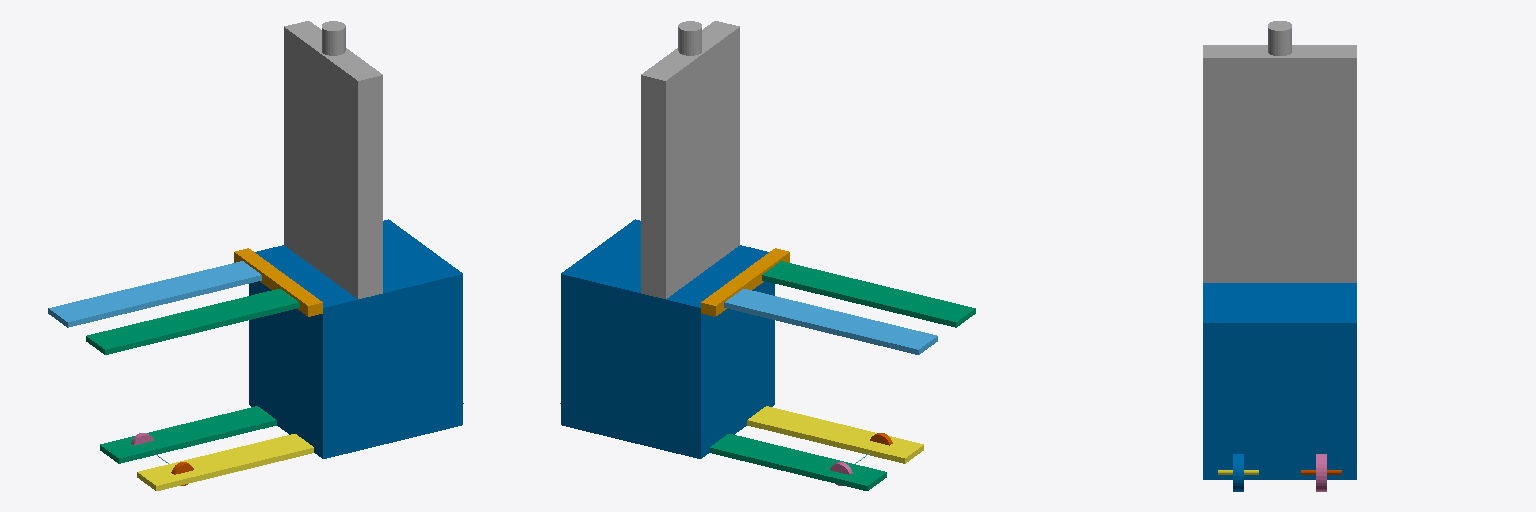
URDF robot description (frankenstein_reality):
<robot name="frankenstein_reality"> 

    <link name="robot_frame"/>
  
    <link name="base_link">
        <visual>
            <geometry>
            <cylinder length="0.5" radius="0.002"/>
            </geometry>
        </visual>
    </link>

    <joint name="base_to_robot_frame" type="fixed">
        <parent link="robot_frame"/>
        <child link="base_link"/>
        <origin xyz="0 0 0" rpy="-1.570796 0 3.141593"/>
    </joint>

    <link name="leg1">
    
        <visual>
            <geometry>
            <box size="0.909 0.192 0.03"/>
            </geometry>
        </visual>
    </link>

    <joint name="leg1_baselink" type="fixed">
        <parent link="base_link"/>
        <child link="leg1"/>
        <origin xyz="-0.2545 0 -0.187" rpy="1.570796 0 0"/>     
    </joint>

    <link name="leg2">
        <visual>
            <geometry>
            <box size="0.909 0.192 0.03"/>
            </geometry>
        </visual>
    </link>

    <joint name="leg2_baselink" type="fixed">
    <parent link="base_link"/> 
    <child link="leg2"/>
    <origin xyz="-0.2545 0 0.187" rpy="1.570796 0 0"/> 
    </joint>

    <link name="chassis">
        <visual>
            <geometry>
            <box size="0.806 0.742 0.831995"/>
            </geometry>
        </visual>
    </link>

    <joint name="leg1_to_chassis" type="fixed">
        <parent link="leg1"/> 
        <child link="chassis"/>
        <origin xyz="-0.8575 0.187 0.4009975" rpy="0 0 0"/>
    </joint>


    <link name="left_free_steering_column">
        <visual>
            <origin xyz="0 0 0" rpy="0 0 0"/>
            <geometry>
            <cylinder radius="0.02" length="0.2"/>
            </geometry>
        </visual>
    </link>


    <joint name="left_free_steering_joint" type="continuous">
        <parent link="chassis"/>
        <child link="left_free_steering_column"/>
        <origin xyz="-0.388 -0.2 -0.3759975" rpy="1.570796 0 0"/>
        <axis xyz="0 1 0"/>
    </joint>


    
    <link name="left_free_wheel">
        <visual>
            <origin xyz="0 0 0" rpy="0 0 0"/>
            <geometry>
            <cylinder radius="0.1" length="0.05"/>
            </geometry>
        </visual>
    </link>

    <joint name="left_free_joint" type="continuous">
        <parent link="left_free_steering_column"/>
        <child link="left_free_wheel"/>
        <origin xyz="0 0 0" rpy="0 0 0"/>
        <axis xyz="0 0 1"/>
    </joint>



    <link name="rod">
        <visual>
            <geometry>
            <box size="0.145 0.742 1.2"/>
            </geometry>
        </visual>
    </link>

    <joint name="rod_to_chassis" type="fixed">
        <parent link="chassis"/>
        <child link="rod"/>
        <origin xyz="0.1295 0 1.0159975" rpy="0 0 0"/>
    </joint>

    <link name="slider">
        <visual>
            <geometry>
            <box size="0.0856 0.742 0.06"/>
            </geometry>
        </visual>
    </link>

    <joint name="slider_to_chassis" type="fixed">
        <parent link="chassis"/>
        <child link="slider"/>
        <origin xyz="0.4458 0 0.4159975" rpy="0 0 0"/>
    </joint>


    <link name="holder1">
        <visual>
            <geometry>
            <box size="1.160349 0.192 0.03"/>
            </geometry>
        </visual>
    </link>

    <joint name="holder1_to_slider" type="fixed">
        <parent link="slider"/>
        <child link="holder1"/>
        <origin xyz="0.5801745 -0.187 0" rpy="0 0 0"/>
    </joint>


    <link name="holder2">
        <visual>
            <geometry>
            <box size="1.160349 0.192 0.03"/>
            </geometry>
        </visual>
    </link>

    <joint name="holder2_to_slider" type="fixed">
        <parent link="slider"/>
        <child link="holder2"/>
        <origin xyz="0.5801745 0.187 0" rpy="0 0 0"/>
    </joint>


    <link name="front_right_steering_column">
        <visual>
            <origin xyz="0 0 0" rpy="0 0 0"/>
            <geometry>
            <cylinder radius="0.02" length="0.2"/>
            </geometry>
        </visual>
    </link>


    <joint name="front_right_steering_joint" type="revolute">
        <parent link="chassis"/>
        <child link="front_right_steering_column"/>
        <origin xyz="-0.388 0.2 -0.3759975" rpy="1.570796 0 0"/>
        <axis xyz="0 1 0"/>
        <limit lower="-0.785398" upper="0.785398" effort="100" velocity="10"/>
    </joint>



    <link name="front_right_wheel">
        <visual>
            <origin xyz="0 0 0" rpy="0 0 0"/>
            <geometry>
            <cylinder radius="0.1" length="0.05"/>
            </geometry>
        </visual>
    </link>

    <joint name="front_right_wheel_joint" type="continuous">
        <parent link="front_right_steering_column"/>
        <child link="front_right_wheel"/>
        <origin xyz="0 0 0" rpy="0 0 0"/>
        <axis xyz="0 0 1"/>
    </joint>

    <link name="back_right_wheel">
        <visual>
            <origin xyz="0 0 0" rpy="0 0 0"/>
            <geometry>
            <cylinder radius="0.06" length="0.03"/>
            </geometry>
        </visual>
    </link>

    <joint name="back_right_wheel_roll_joint" type="continuous">
        <parent link="base_link"/>
        <child link="back_right_wheel"/>
        <origin xyz="0 0 0.2" rpy="0 0 1.570796"/>
        <axis xyz="0 0 1"/>
    </joint>

    <link name="back_left_wheel">
        <visual>
            <origin xyz="0 0 0" rpy="0 0 0"/>
            <geometry>
            <cylinder radius="0.06" length="0.03"/>
            </geometry>
        </visual>
    </link>

    <joint name="back_left_wheel_roll_joint" type="continuous">
        <parent link="base_link"/>
        <child link="back_left_wheel"/>
        <origin xyz="0 0 -0.2" rpy="0 0 1.570796"/>
        <axis xyz="0 0 1"/>
    </joint>

    <link name="lidar_link">
        <visual>
            <origin xyz="0 0 0" rpy="0 0 0"/>
            <geometry>
                <cylinder radius="0.06" length="0.224"/>
            </geometry>
        </visual> 
    </link>

    <joint name="lidar_to_rod" type="fixed">
        <parent link="rod"/>
        <child link="lidar_link"/>
        <origin xyz="0 0 0.623409" rpy="0 0 3.141593"/>
    </joint>

</robot>

--- What the picture shows (computed from the rendered views, not written in the file) ---
Views: 3 orthographic renders of the robot side by side, from view 1: azimuth 30°, elevation 25°; view 2: azimuth 150°, elevation 25°; view 3: azimuth 270°, elevation 25°.
Robot: frankenstein_reality — 16 links, 15 joints (1 revolute, 5 continuous, 9 fixed); root link robot_frame; default pose: all joints at 0.
Links seen in each view (by area): view 1: chassis, rod, holder1, holder2, leg1, leg2, slider, lidar_link; view 2: chassis, rod, holder2, holder1, leg2, leg1, slider, lidar_link; view 3: rod, chassis, lidar_link.
Link boxes in pixels (box(x1,y1,x2,y2)): chassis: box(249, 219, 462, 458); rod: box(284, 21, 382, 298); holder1: box(48, 261, 261, 327); holder2: box(86, 289, 299, 354); leg1: box(100, 406, 276, 463); leg2: box(137, 434, 313, 490); slider: box(234, 248, 322, 316); lidar_link: box(322, 21, 345, 55); chassis: box(561, 219, 774, 458); rod: box(641, 21, 739, 298); holder2: box(762, 261, 975, 327); holder1: box(724, 289, 937, 354); leg2: box(747, 406, 923, 463); leg1: box(710, 434, 886, 490); slider: box(701, 248, 789, 316); lidar_link: box(678, 21, 701, 55); rod: box(1203, 45, 1356, 282); chassis: box(1203, 283, 1356, 479); lidar_link: box(1268, 21, 1291, 55).
Bounding box of the posed robot: 2.09 × 0.742 × 2.23 m (x, y, z).
Geometry: primitives only (box / cylinder / sphere), no mesh files.
